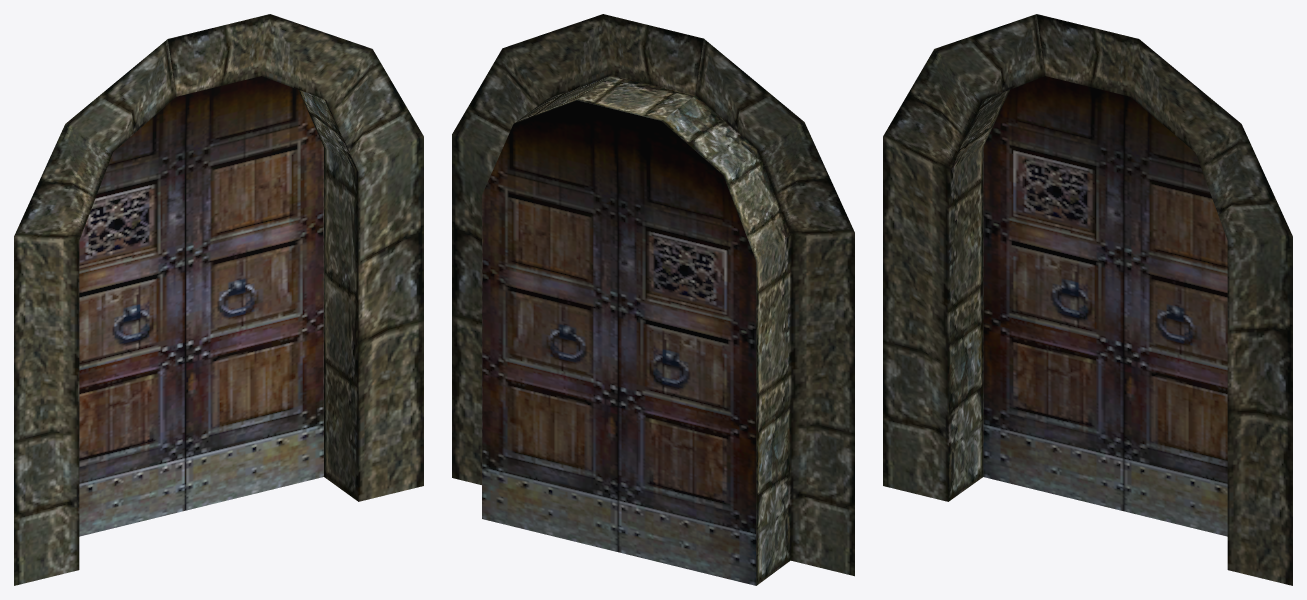
The model's file is cci09.glb.
3 views of the same model, side by side, from view 1: azimuth 30°, elevation 25°; view 2: azimuth 150°, elevation 25°; view 3: azimuth 330°, elevation 25° (orthographic).
Parts seen in each view (by area): view 1: cci09-col; view 2: cci09-col; view 3: cci09-col.
Part boxes in pixels (x1,y1,x2,y2): cci09-col: (14,14,423,585); cci09-col: (452,14,854,585); cci09-col: (883,14,1292,585).
Size of the model in its own units: 2.69 by 3.2 by 0.3943.
2 materials, 2 textured.
